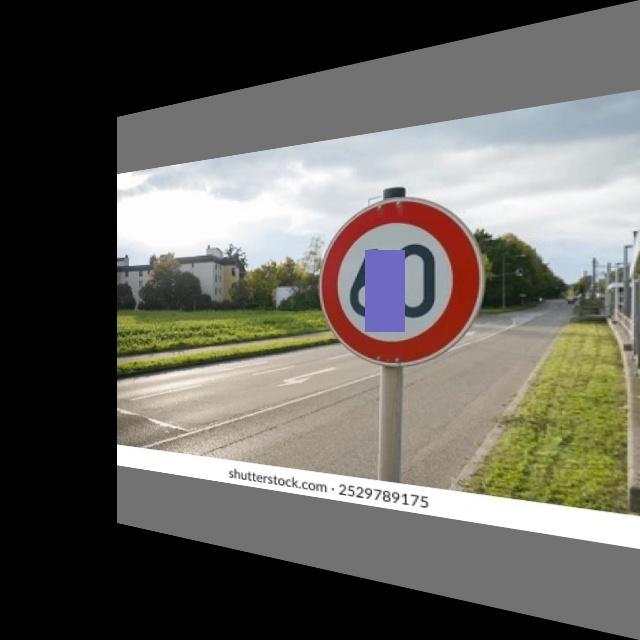Speed_Limit_60: (316, 189, 485, 366)
